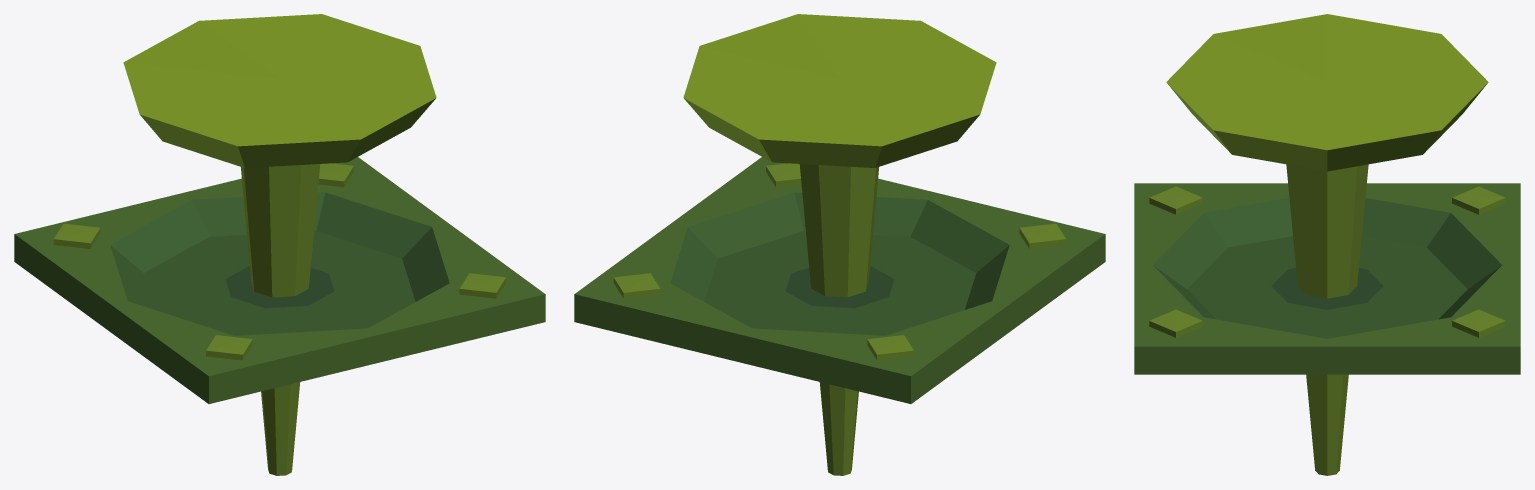
Rendered from nailButton.fbx.
The picture shows the model from 3 angles, left to right: view 1: azimuth 30°, elevation 25°; view 2: azimuth 150°, elevation 25°; view 3: azimuth 270°, elevation 25°; orthographic projection.
Visible parts, largest first — view 1: Mesh_NailButtonBase, Mesh_NailButton; view 2: Mesh_NailButtonBase, Mesh_NailButton; view 3: Mesh_NailButtonBase, Mesh_NailButton.
Part boxes in pixels (<box>): Mesh_NailButtonBase: <box>14,157,545,403</box>; Mesh_NailButton: <box>123,14,436,475</box>; Mesh_NailButtonBase: <box>574,157,1105,403</box>; Mesh_NailButton: <box>683,14,996,475</box>; Mesh_NailButtonBase: <box>1134,183,1520,374</box>; Mesh_NailButton: <box>1166,14,1488,475</box>.
Size of the model in its own units: 1.98 by 1.98 by 2.2.
